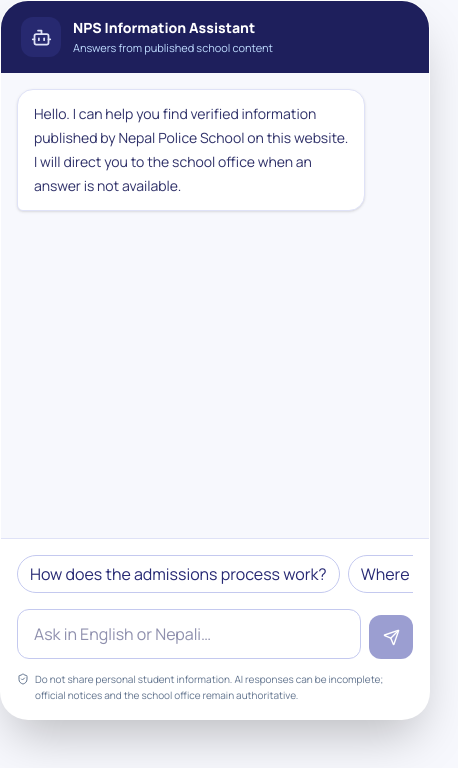
Test case: public assistant UI › copies an answer with its public source links
Type "Where are the notices?" into the field named "Ask a question".
click(189, 634); type("Where are the notices?")  # box [17,609,361,659]
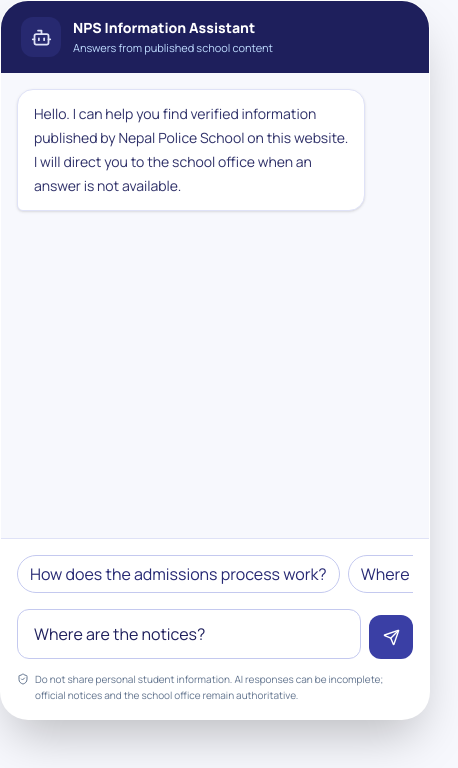
Click the button named "Send question".
click(391, 637)  # box [369,615,413,659]
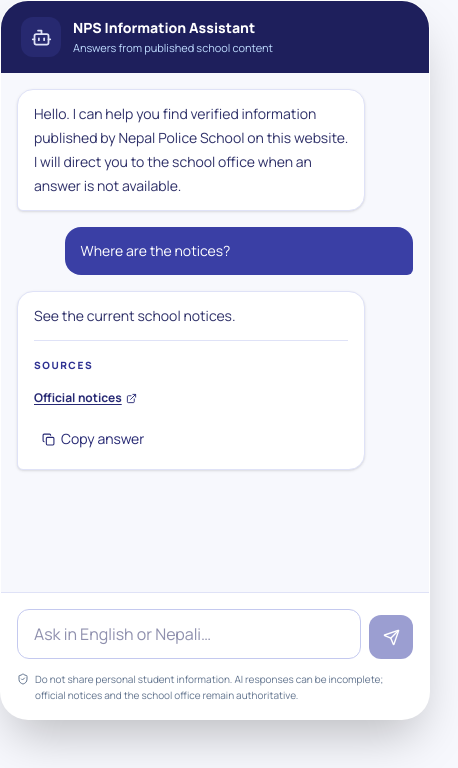
Click the button "Copy answer".
click(93, 439)  # box [34,421,152,457]
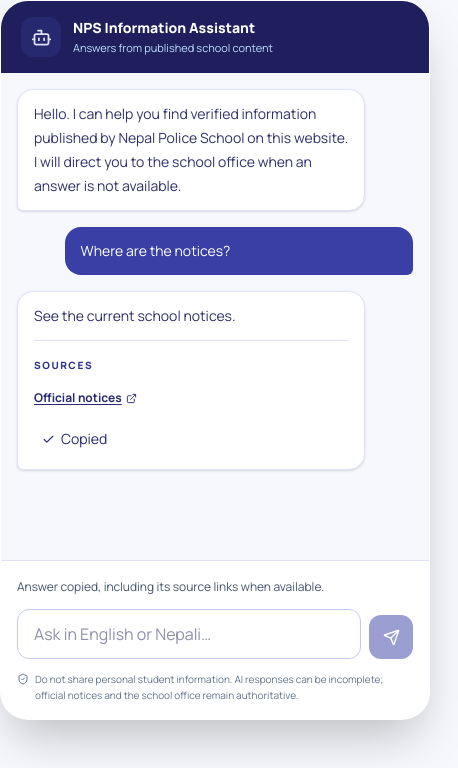
Expected: the button with aria-label "Answer copied" is shown, [34,421,115,457]
